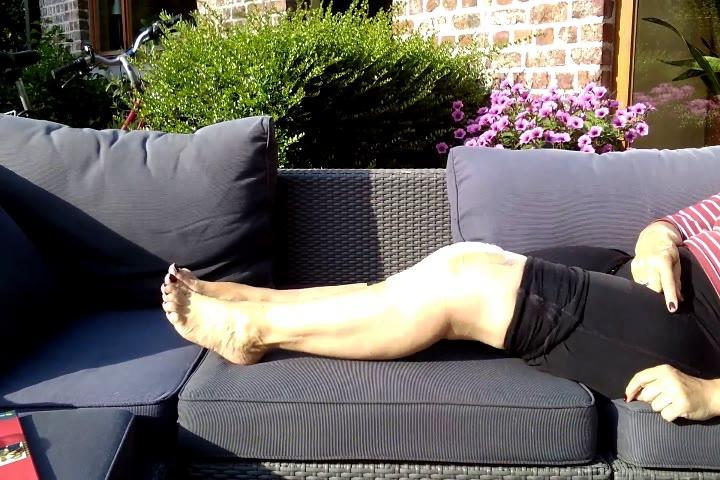lower_body: (152, 235, 720, 418)
